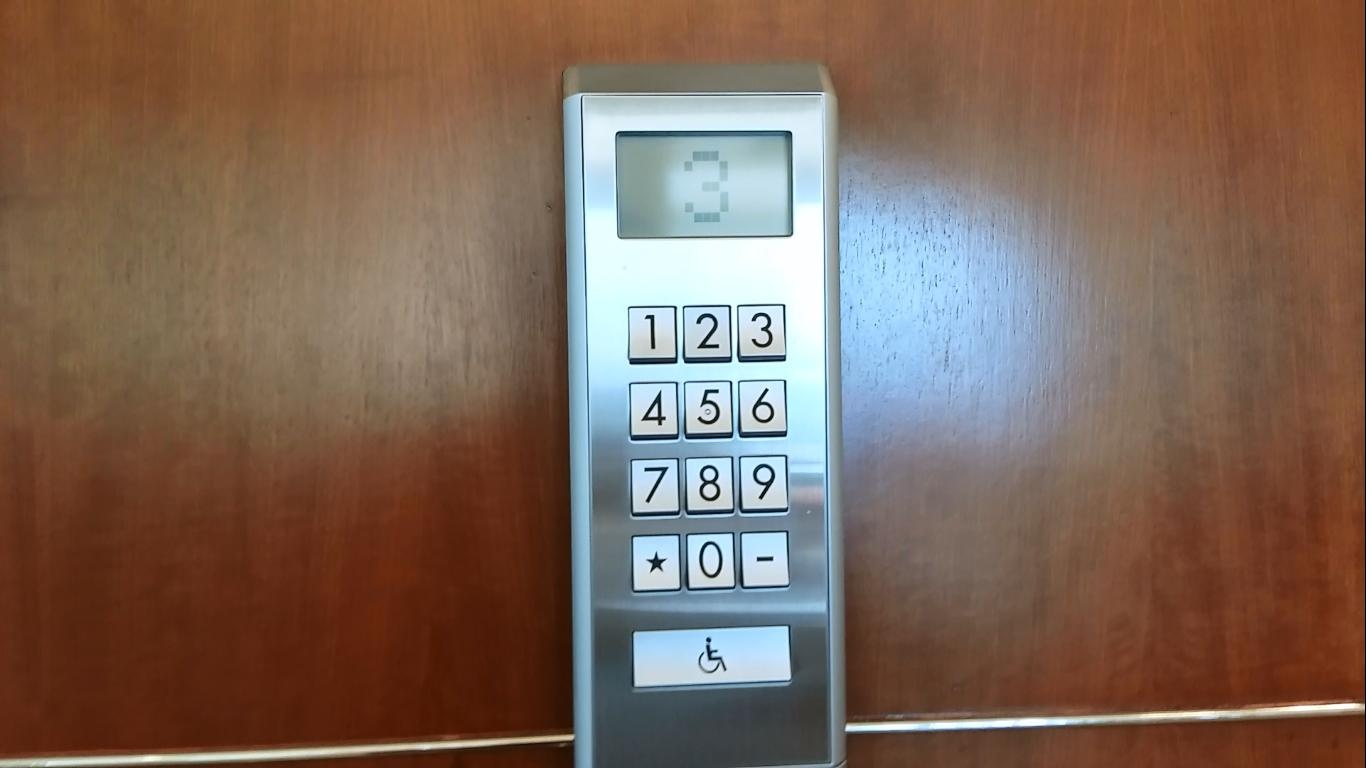-: (736, 527, 794, 594)
0: (682, 528, 740, 595)
1: (624, 301, 682, 368)
2: (679, 300, 735, 366)
3: (734, 300, 790, 366)
4: (626, 378, 682, 444)
5: (680, 377, 736, 443)
6: (735, 375, 791, 441)
7: (627, 454, 683, 520)
8: (681, 452, 737, 518)
9: (736, 450, 792, 516)
CH: (628, 622, 796, 695)
led: (610, 124, 797, 245)
s: (628, 531, 684, 597)
